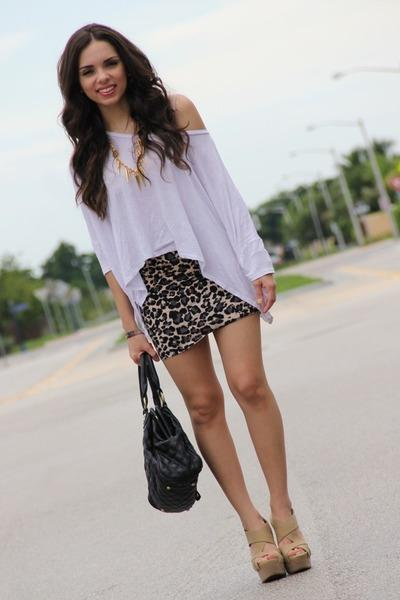bag: (135, 350, 202, 512)
shirt: (84, 124, 274, 319)
shoe: (252, 528, 310, 583)
skirt: (139, 252, 251, 371)
